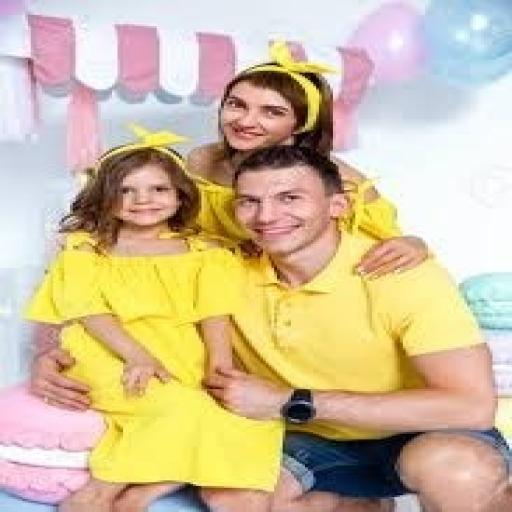hugging: (25, 142, 509, 510)
